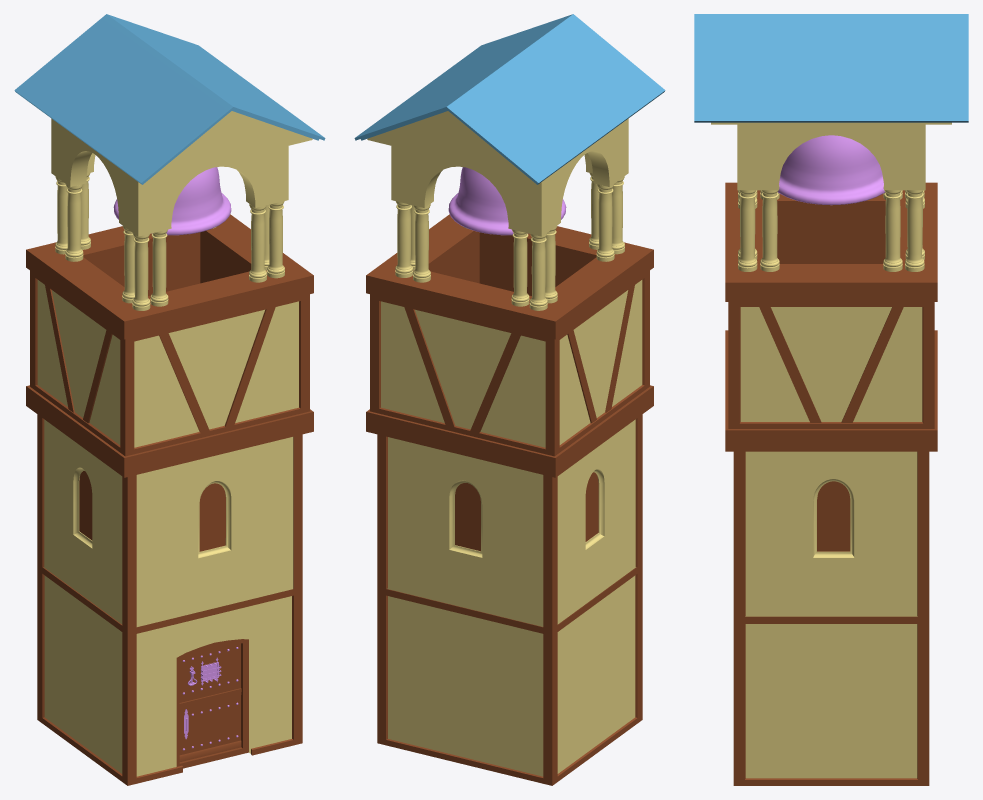
Rendered from zhonglou.FBX.
3 renders of one model, left to right at view 1: azimuth 30°, elevation 25°; view 2: azimuth 150°, elevation 25°; view 3: azimuth 270°, elevation 25°, orthographic. The views are drawn at different scales.
Parts seen in each view (by area): view 1: BellTower_PlasterYellow, BellTower_Wood_Beams, BellTower_RoofTiles, BellTower_WoodDark, BellTower_Metal_Pitted; view 2: BellTower_PlasterYellow, BellTower_Wood_Beams, BellTower_RoofTiles, BellTower_Metal_Pitted, BellTower_WoodDark; view 3: BellTower_PlasterYellow, BellTower_Wood_Beams, BellTower_RoofTiles, BellTower_Metal_Pitted, BellTower_WoodDark.
Boxes of the visible parts, x1=… form: BellTower_PlasterYellow: x1=37, y1=111, x2=312, y2=776; BellTower_Wood_Beams: x1=26, y1=214, x2=313, y2=785; BellTower_RoofTiles: x1=14, y1=14, x2=325, y2=184; BellTower_WoodDark: x1=79, y1=471, x2=248, y2=768; BellTower_Metal_Pitted: x1=113, y1=167, x2=238, y2=750; BellTower_PlasterYellow: x1=367, y1=111, x2=642, y2=776; BellTower_Wood_Beams: x1=366, y1=214, x2=653, y2=785; BellTower_RoofTiles: x1=354, y1=14, x2=665, y2=184; BellTower_Metal_Pitted: x1=448, y1=167, x2=566, y2=235; BellTower_WoodDark: x1=455, y1=472, x2=598, y2=551; BellTower_PlasterYellow: x1=711, y1=122, x2=951, y2=778; BellTower_Wood_Beams: x1=725, y1=182, x2=937, y2=785; BellTower_RoofTiles: x1=694, y1=14, x2=968, y2=122; BellTower_Metal_Pitted: x1=778, y1=135, x2=884, y2=205; BellTower_WoodDark: x1=817, y1=481, x2=850, y2=551.
Bounding box in the file's own units: 4.2 × 14.21 × 4.87.
